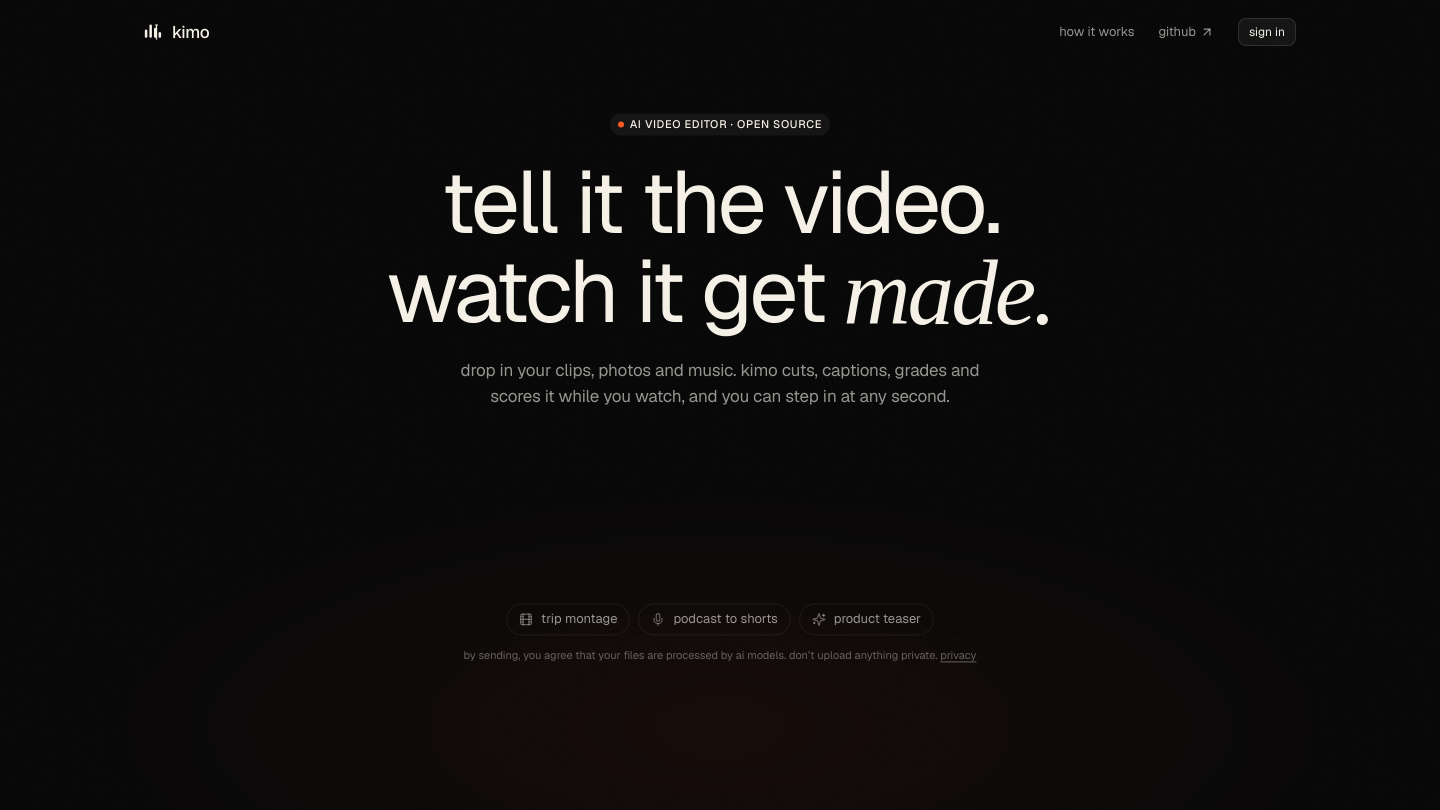
Test: landing interactions › sample chips fill but do not send
Click the button "podcast to shorts": (715, 619) [638,603,791,635]
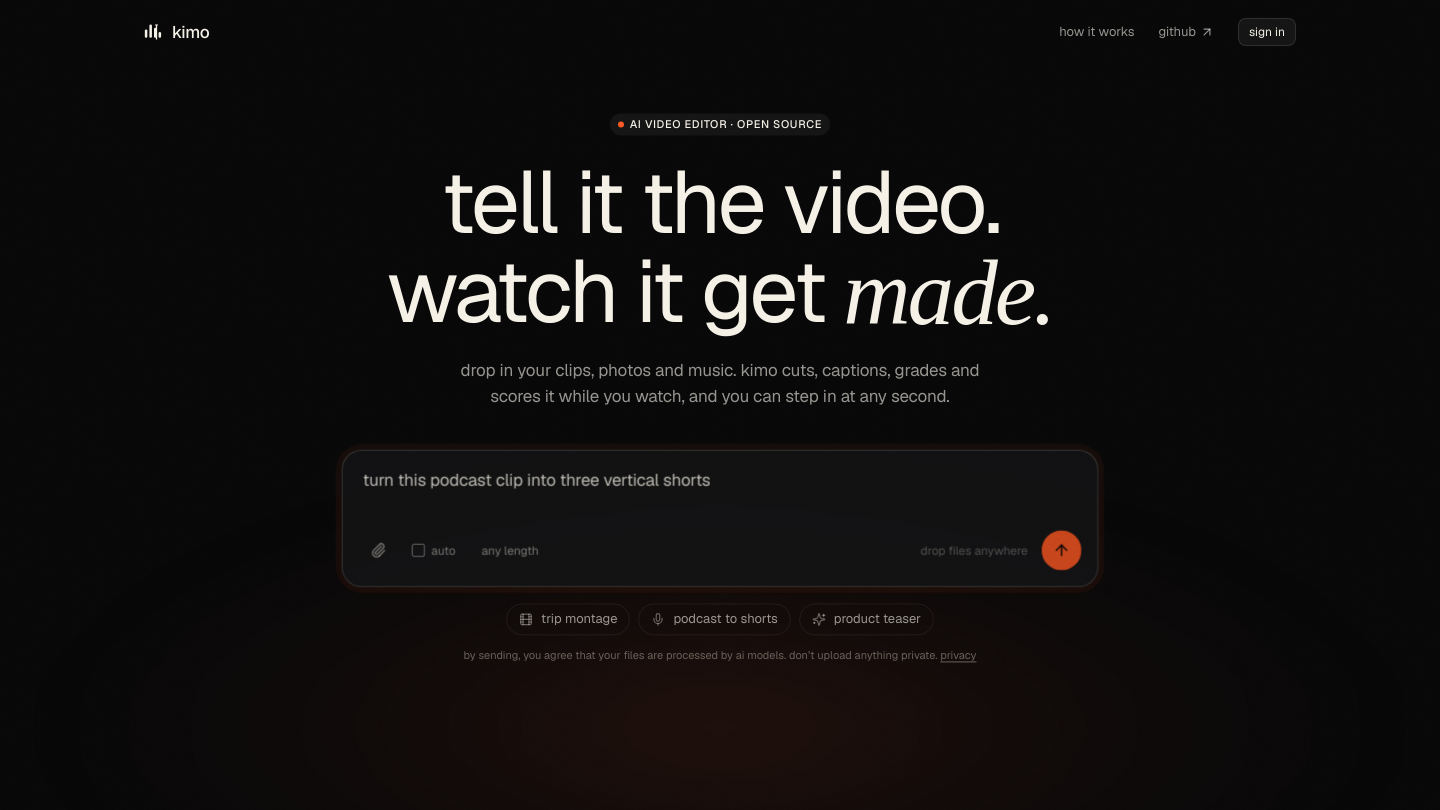
Result: the text box named "describe your video" holds "turn this podcast clip into three vertical shorts" at [363,466,1081,518]
